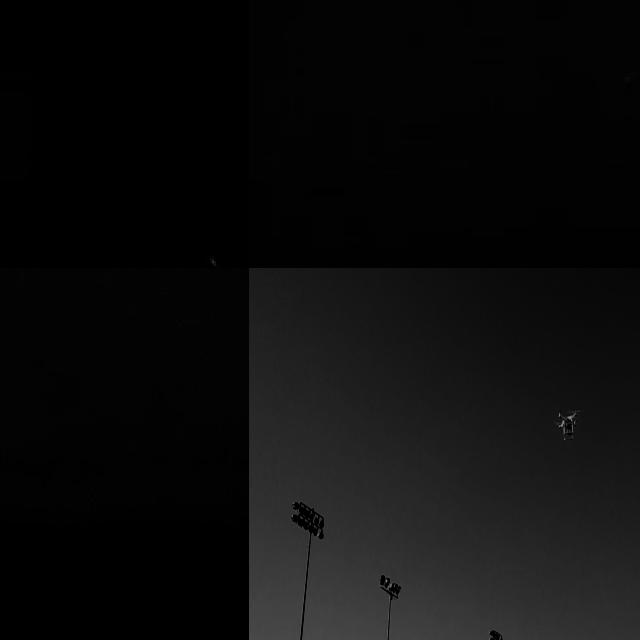0: (612, 67, 634, 97), (200, 249, 222, 268)
drone: (550, 404, 580, 444)
